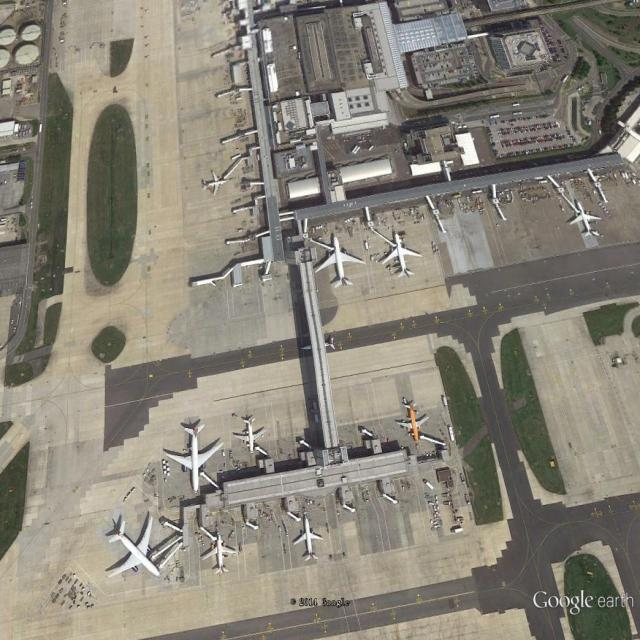aircraft: (163, 420, 229, 496), (103, 513, 164, 584), (311, 232, 370, 291), (378, 229, 425, 280), (393, 401, 433, 452), (199, 530, 239, 577), (290, 517, 328, 565), (567, 198, 606, 242), (231, 412, 269, 456), (200, 169, 229, 200)
